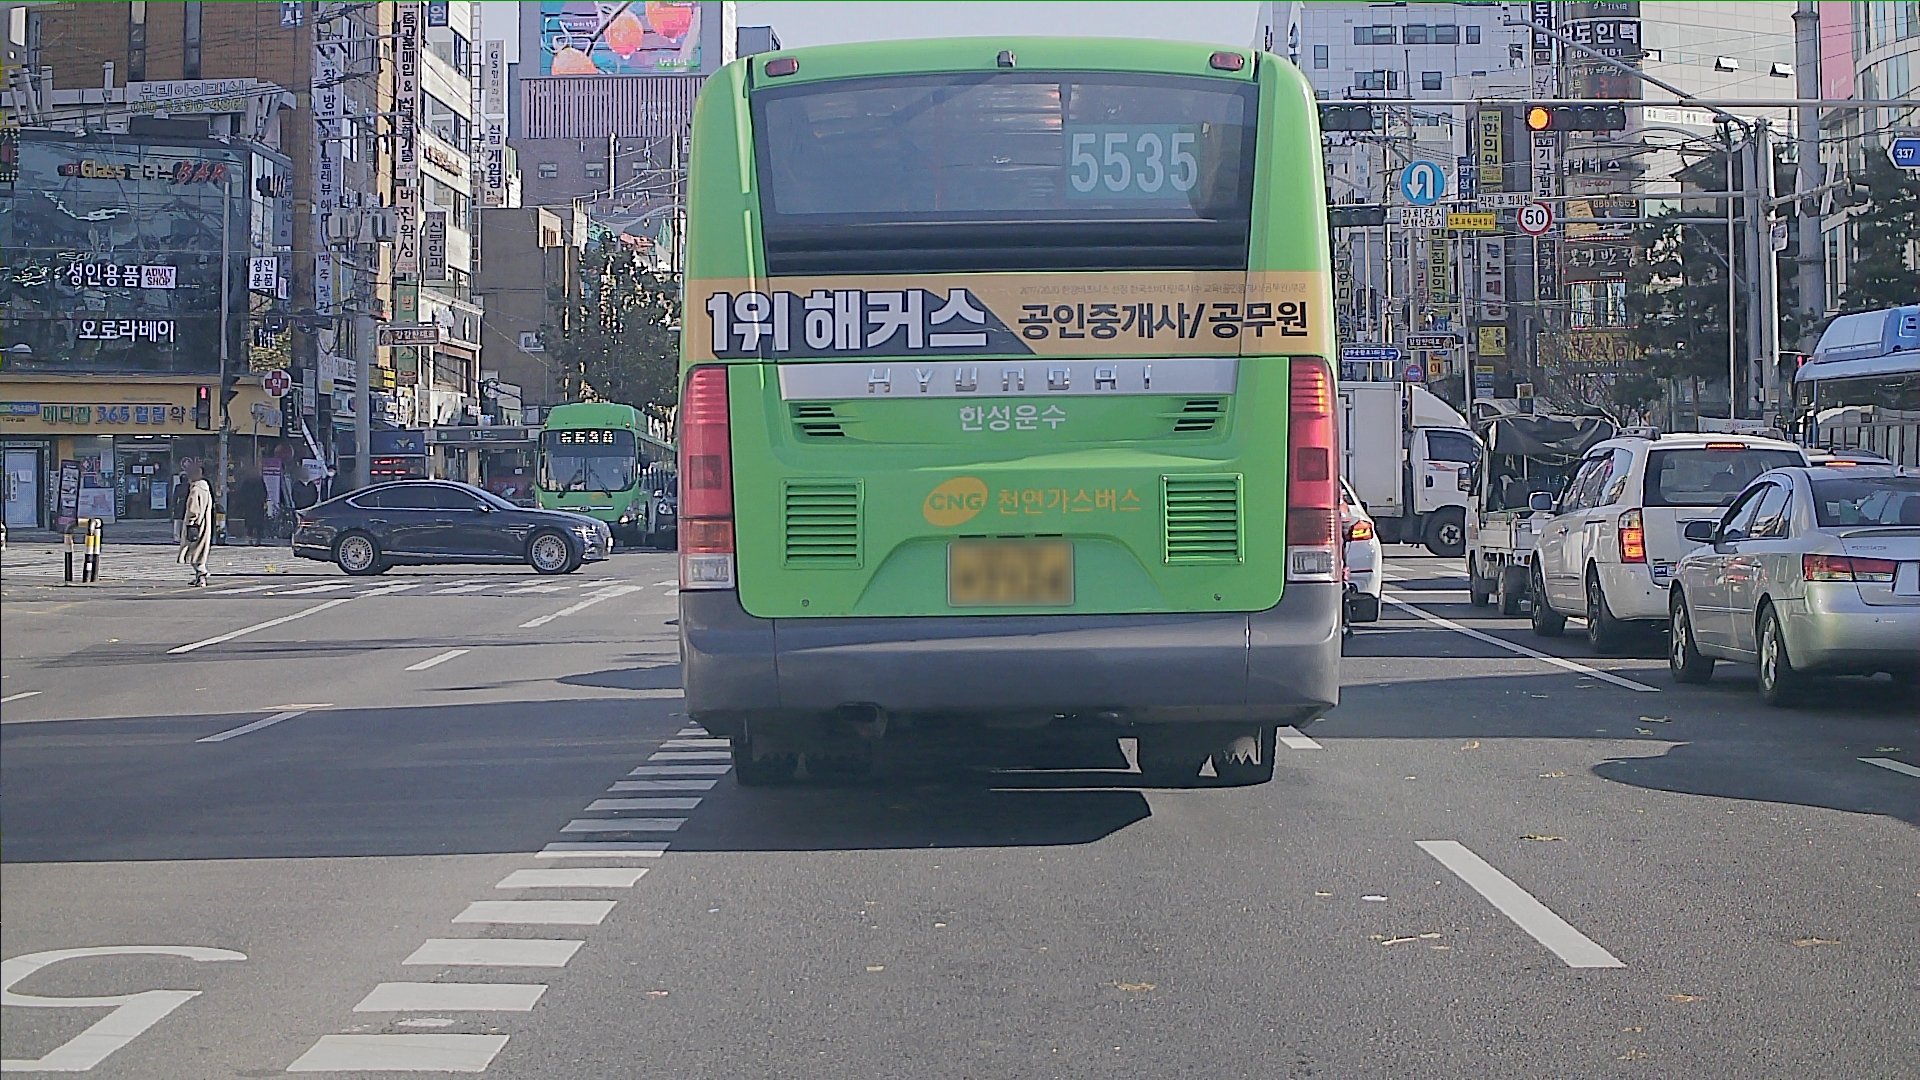trafficLight: (1526, 100, 1629, 132)
trafficSignCircle: (1400, 161, 1447, 207), (1516, 204, 1549, 237)
